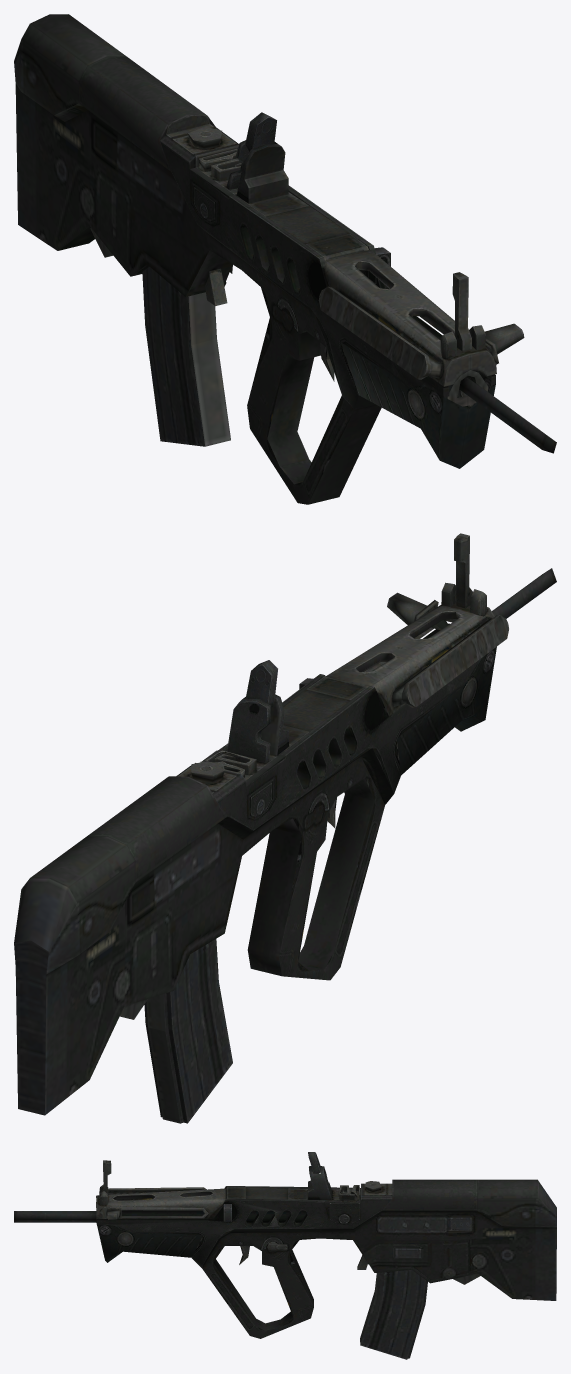
Rendered from Assault_Rifle_pw_1054_TAR21_dj_lod1_Body_LOD_(000315).glb.
3 renders of one model, top to bottom at view 1: azimuth 30°, elevation 25°; view 2: azimuth 150°, elevation 25°; view 3: azimuth 270°, elevation 25°, orthographic. The views are drawn at different scales.
Parts seen in each view (by area): view 1: pw_1054_TAR21_dj_lod1; view 2: pw_1054_TAR21_dj_lod1; view 3: pw_1054_TAR21_dj_lod1.
Boxes of the visible parts, x1,y1,x2,y2 form: pw_1054_TAR21_dj_lod1: (14, 14, 556, 504); pw_1054_TAR21_dj_lod1: (14, 533, 556, 1123); pw_1054_TAR21_dj_lod1: (14, 1152, 556, 1359).
Bounding box in the file's own units: 0.1076 × 0.3568 × 0.8586.
Materials: 1 (1 with a texture image).
